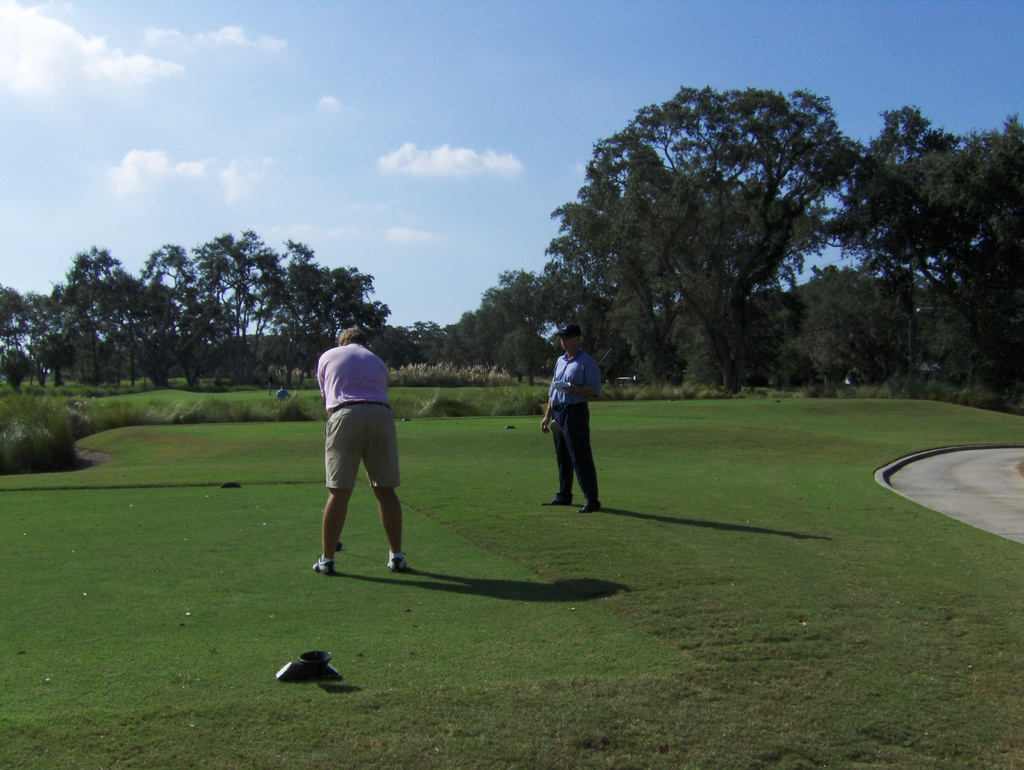Person: (312, 327, 406, 576), (539, 322, 600, 515)
